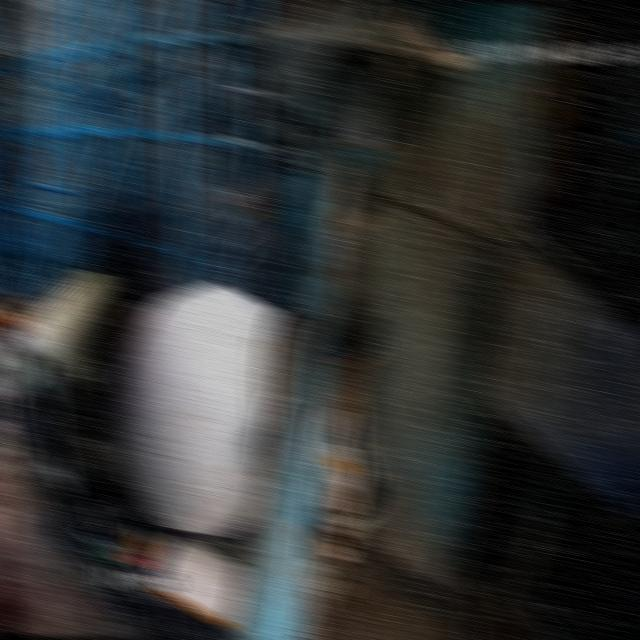cement_mixer_truck: (0, 274, 381, 640)
swing_chute: (293, 116, 401, 350)
